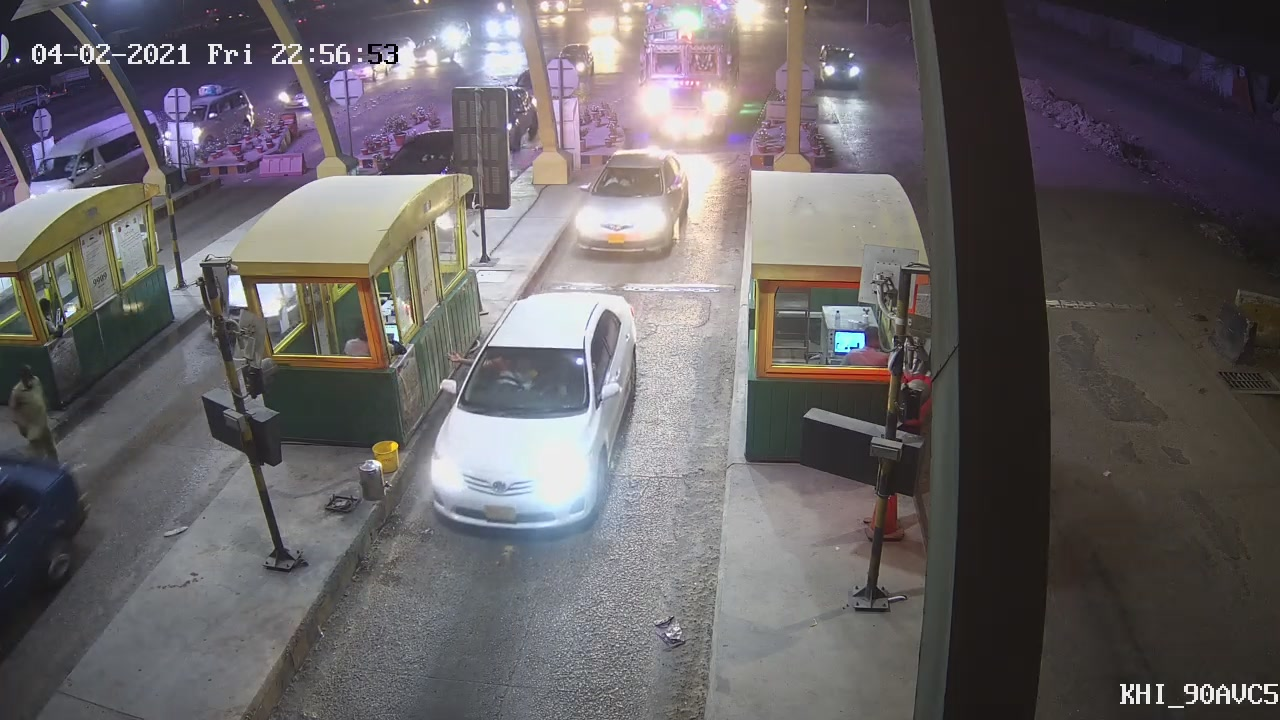F1: (421, 289, 638, 535), (565, 147, 694, 258)
